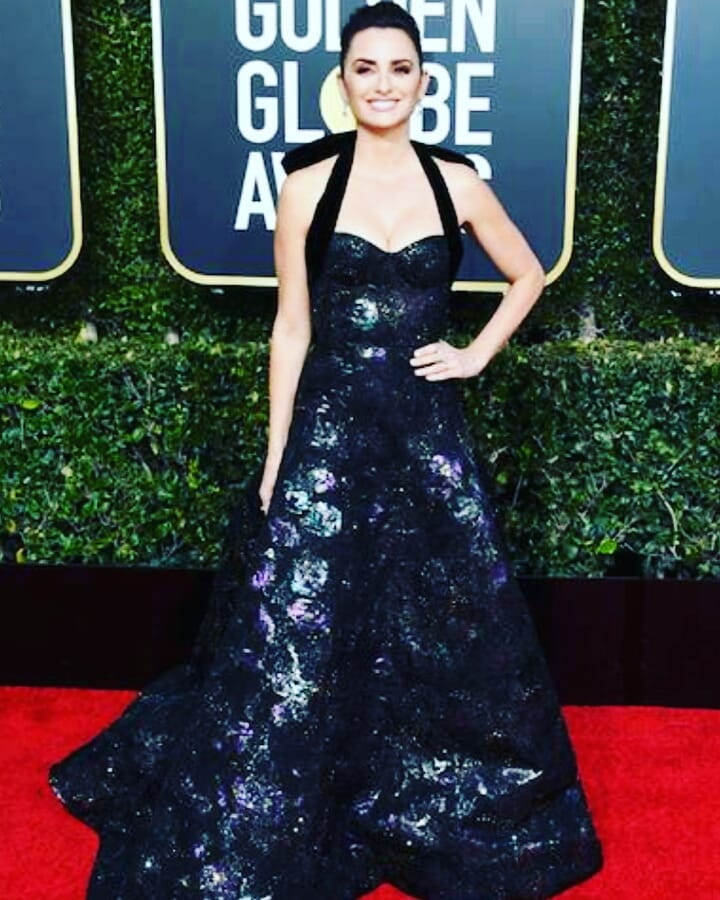hand: (411, 345, 480, 376)
